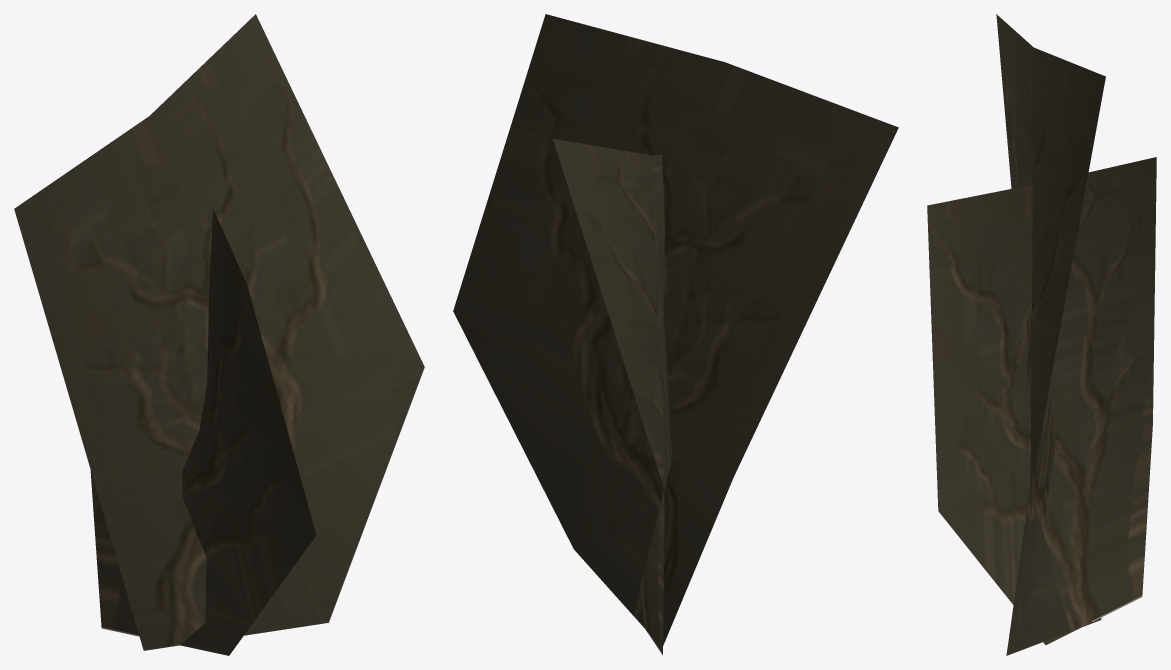
The model's file is shumu01.FBX.
3 views of the same model, side by side, from view 1: azimuth 30°, elevation 25°; view 2: azimuth 150°, elevation 25°; view 3: azimuth 270°, elevation 25° (orthographic).
Visible parts, largest first — view 1: polySurface935; view 2: polySurface935; view 3: polySurface935.
Boxes of the visible parts, x1,y1,x2,y2 form: polySurface935: (14, 14, 424, 655); polySurface935: (453, 14, 898, 655); polySurface935: (927, 14, 1156, 655).
Bounding box in the file's own units: 43.82 × 59.41 × 20.66.
